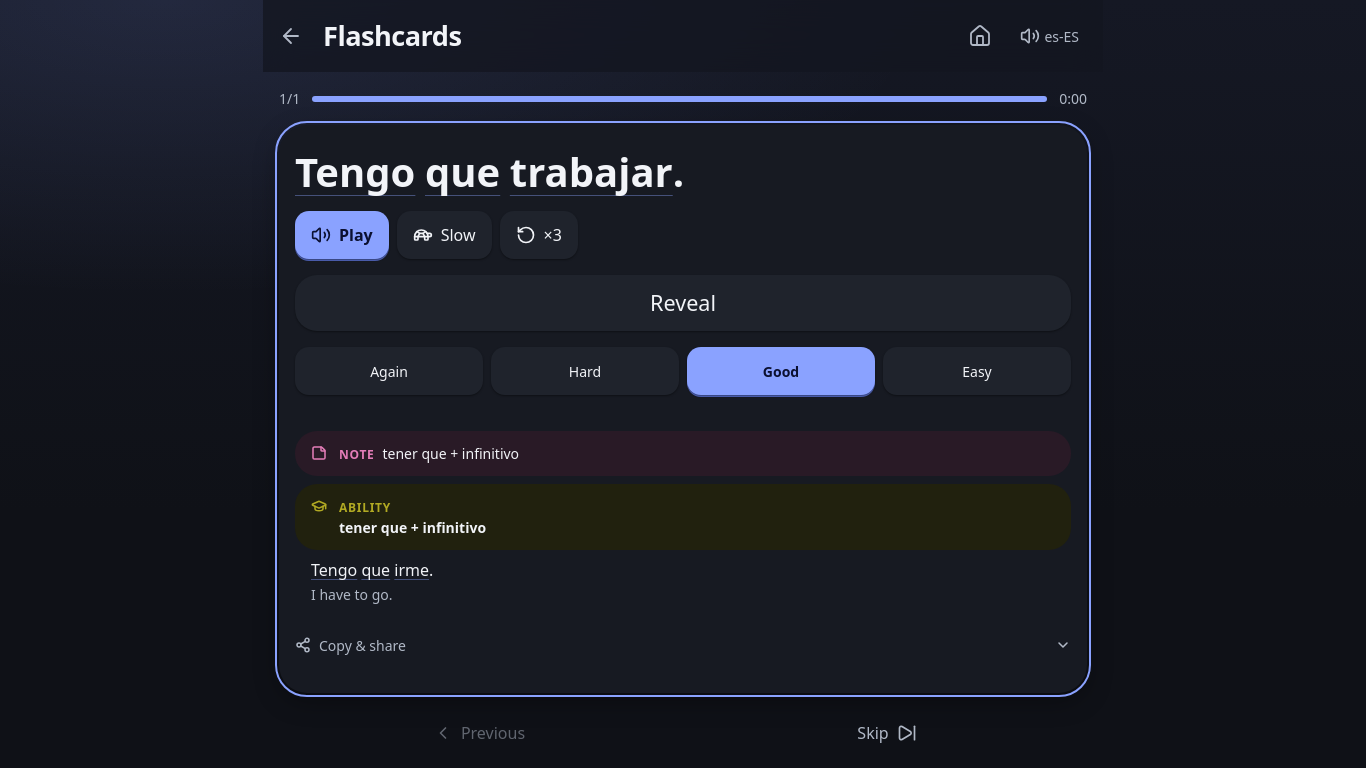
Test case: selecting a phrase › explains the pattern once the phrase is selected
The image size is (1366, 768).
Click the button with aria-label "About “Tengo”" at (355, 172), box [295,149,415,195]
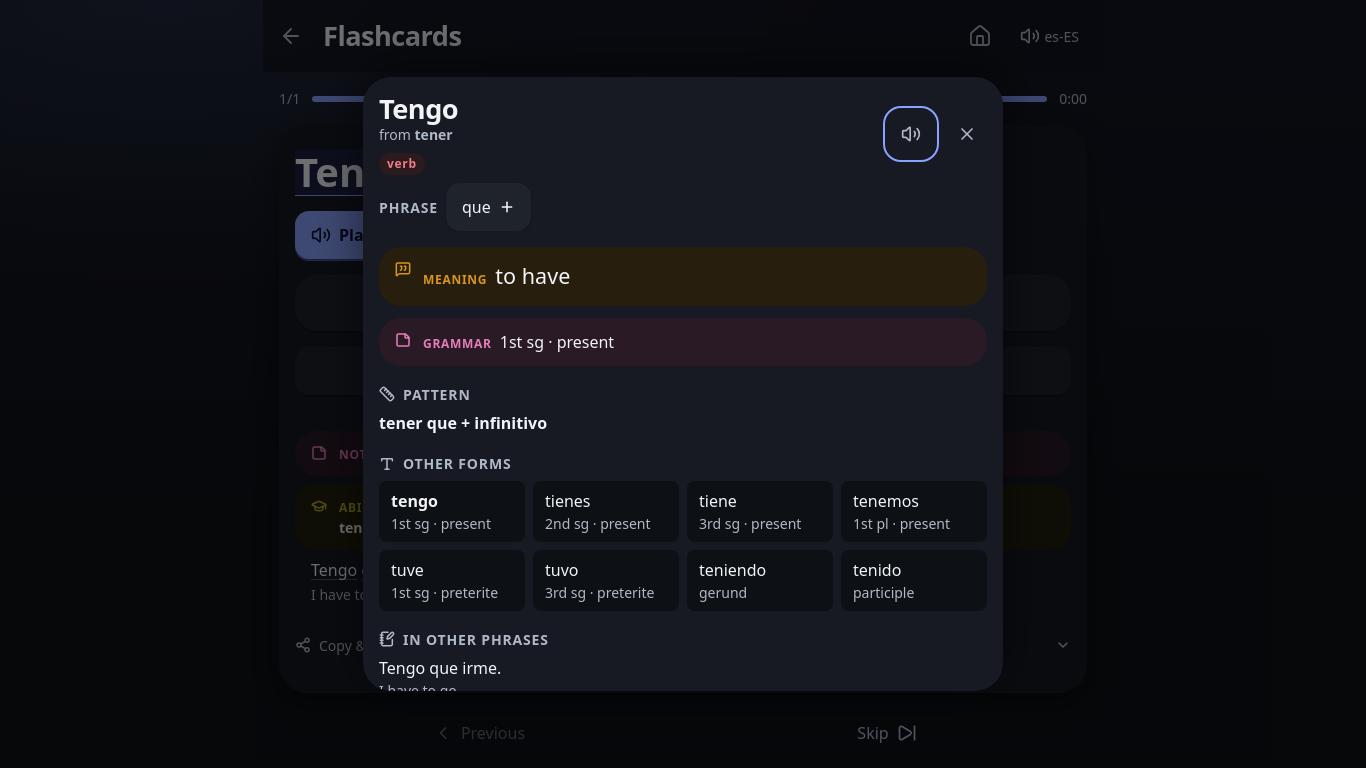
Click the button with aria-label "Add “que” after" at (488, 207), box [446,183,531,231]
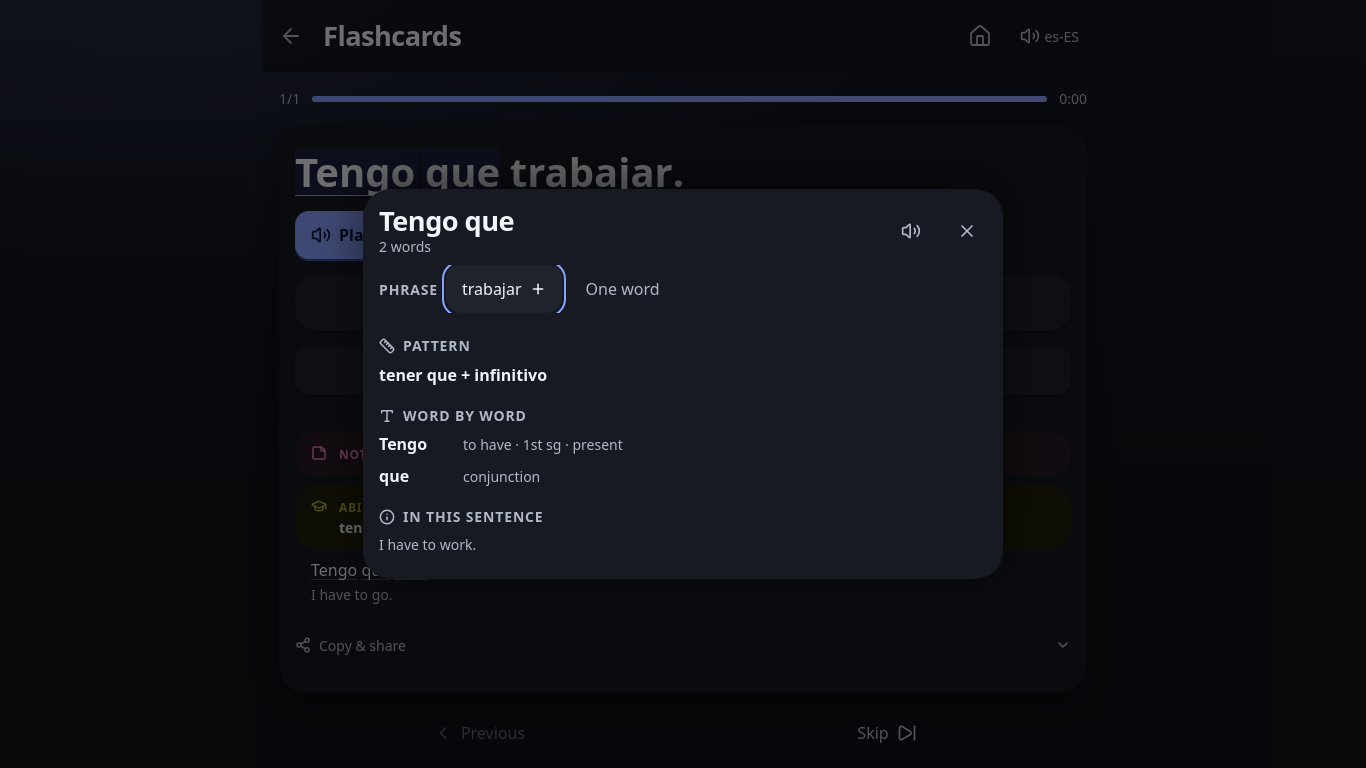
Now the dialog named "About Tengo que" shows "tener que + infinitivo", box [379,364,547,386]
Now the dialog named "About Tengo que" shows "to have", box [463,435,623,454]
Now the dialog named "About Tengo que" shows "Word by word", box [403,406,527,425]
